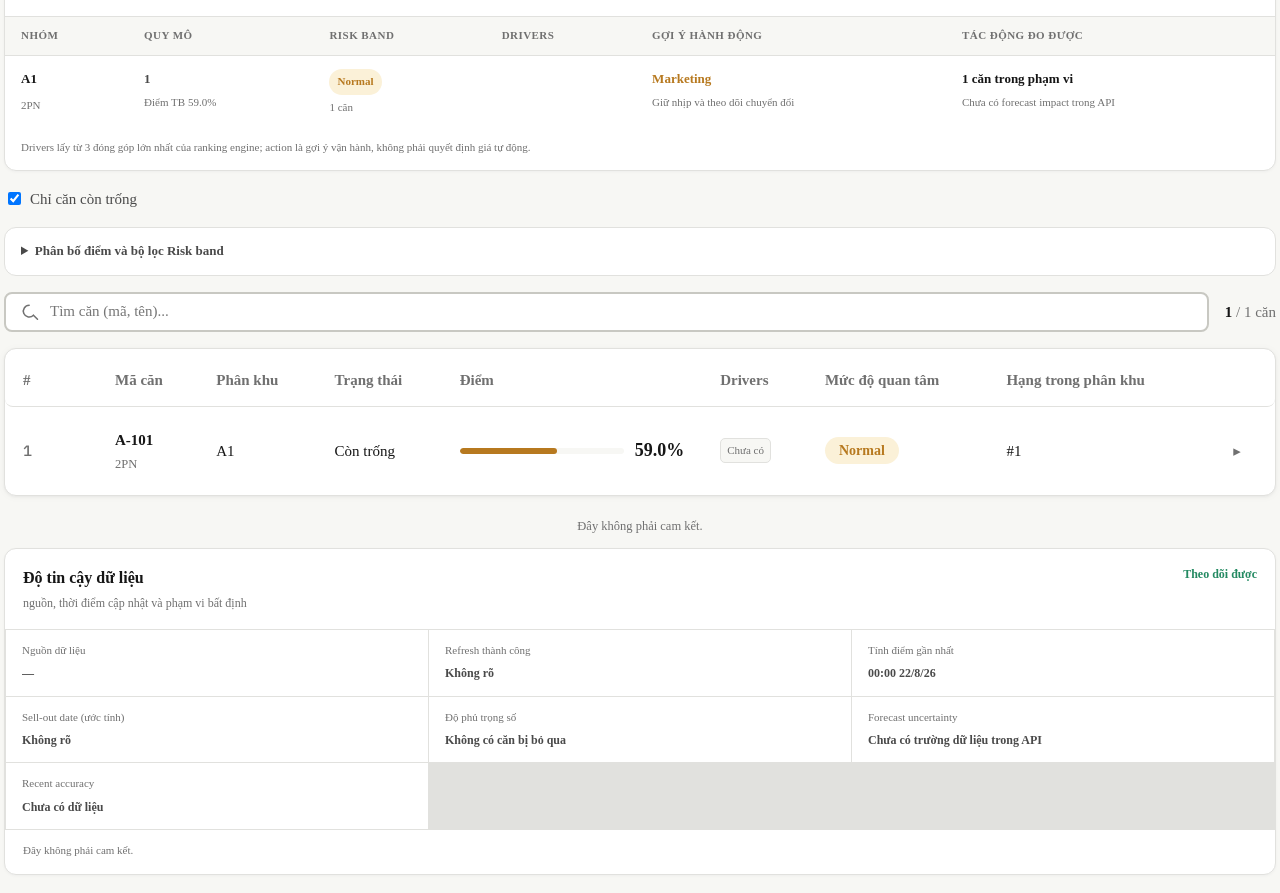
Scenario: RankingPage — hierarchical disclosure (PR-7) › shows the legal-gated state with no score/band and a distinct legacy score
(page scrolled)
What coordinates should you click on to do the following:
click the text "A-101"
I would click on:
 (640, 451)
Its box is left=5, top=412, right=1275, bottom=490.
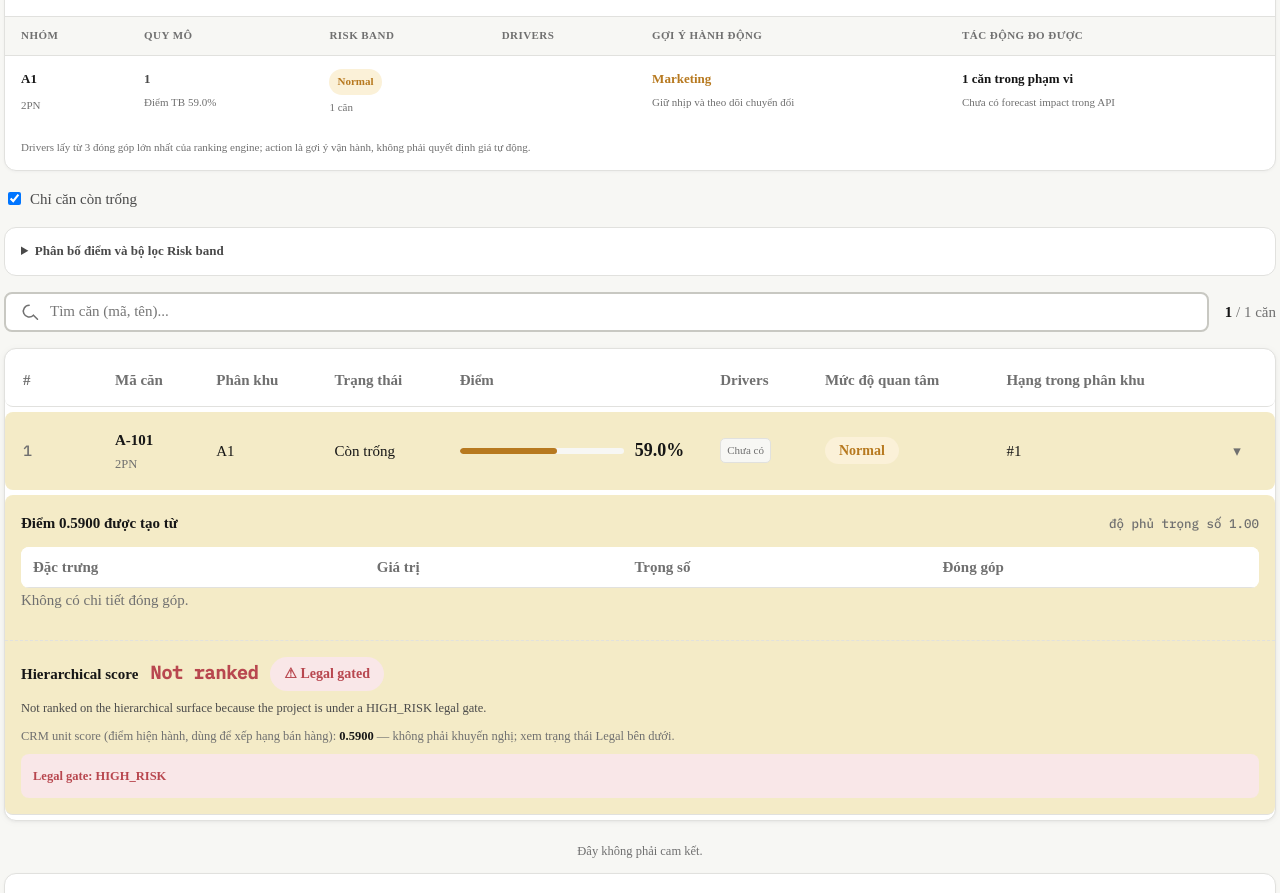
Now the text "Legal gated" is shown, box left=300, top=666, right=370, bottom=681
Now the text "Not ranked" is shown, box left=150, top=659, right=258, bottom=688
Now the text "Legal gate: HIGH_RISK" is shown, box left=21, top=754, right=1259, bottom=798
